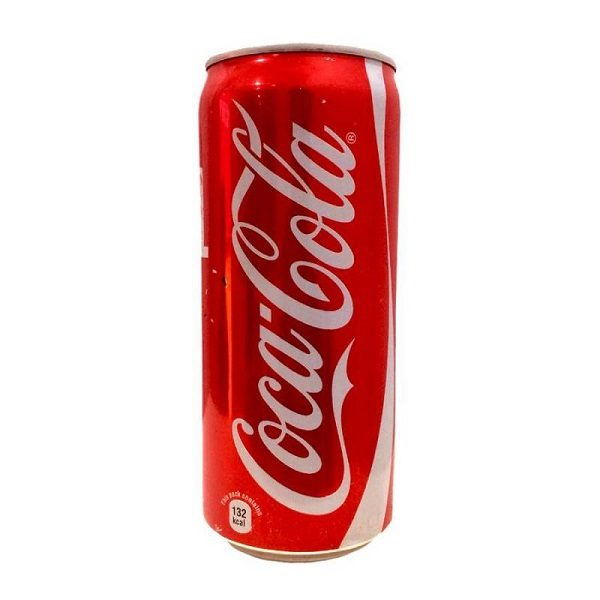can: (195, 35, 423, 565)
